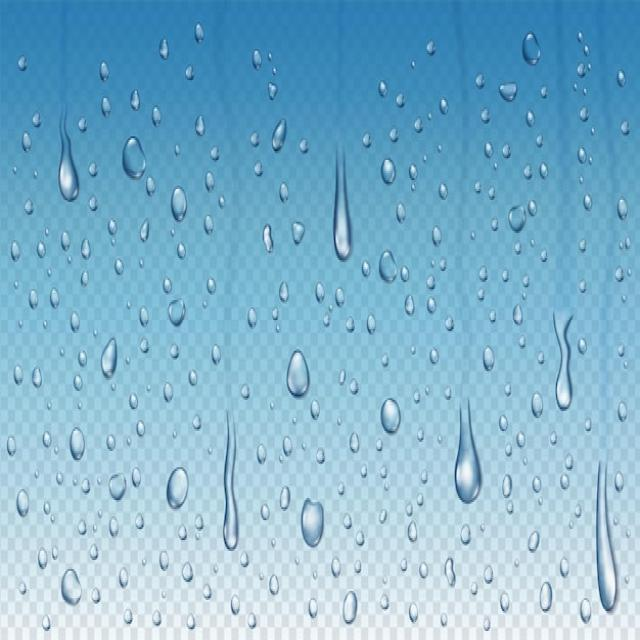raindrop: (588, 471, 626, 639), (450, 418, 485, 515), (294, 476, 329, 571), (326, 158, 354, 266), (56, 126, 90, 212), (555, 318, 579, 427), (281, 342, 315, 415), (120, 124, 148, 186), (163, 454, 190, 514), (56, 549, 91, 594), (339, 582, 366, 640), (376, 391, 406, 442), (99, 326, 122, 390), (522, 23, 548, 78), (168, 173, 189, 237), (267, 100, 288, 161), (375, 144, 398, 198), (105, 462, 129, 510), (376, 242, 401, 285), (506, 194, 531, 236), (536, 574, 558, 620), (162, 291, 188, 325), (70, 428, 90, 466)
